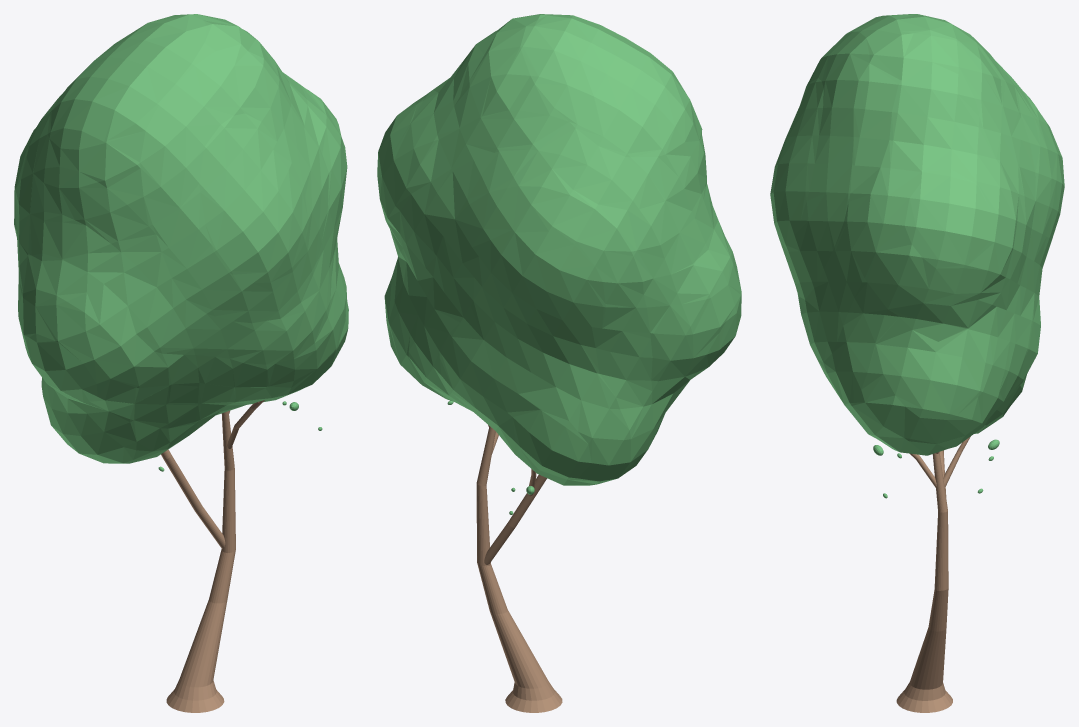
The model's file is Cartoon_Trees_Pack_Tree_5.glb.
3 views of the same model, side by side, from view 1: azimuth 30°, elevation 25°; view 2: azimuth 150°, elevation 25°; view 3: azimuth 270°, elevation 25° (orthographic). The views are drawn at different scales.
Parts seen in each view (by area): view 1: Canopy, Trunk; view 2: Canopy, Trunk; view 3: Canopy, Trunk.
Part boxes in pixels (box(x1,y1,x2,y2)): Canopy: box(14, 14, 348, 471); Trunk: box(161, 400, 264, 712); Canopy: box(377, 14, 741, 514); Trunk: box(476, 425, 562, 712); Canopy: box(770, 14, 1064, 498); Trunk: box(896, 436, 970, 712).
Size of the model in its own units: 537 by 1077 by 429.
